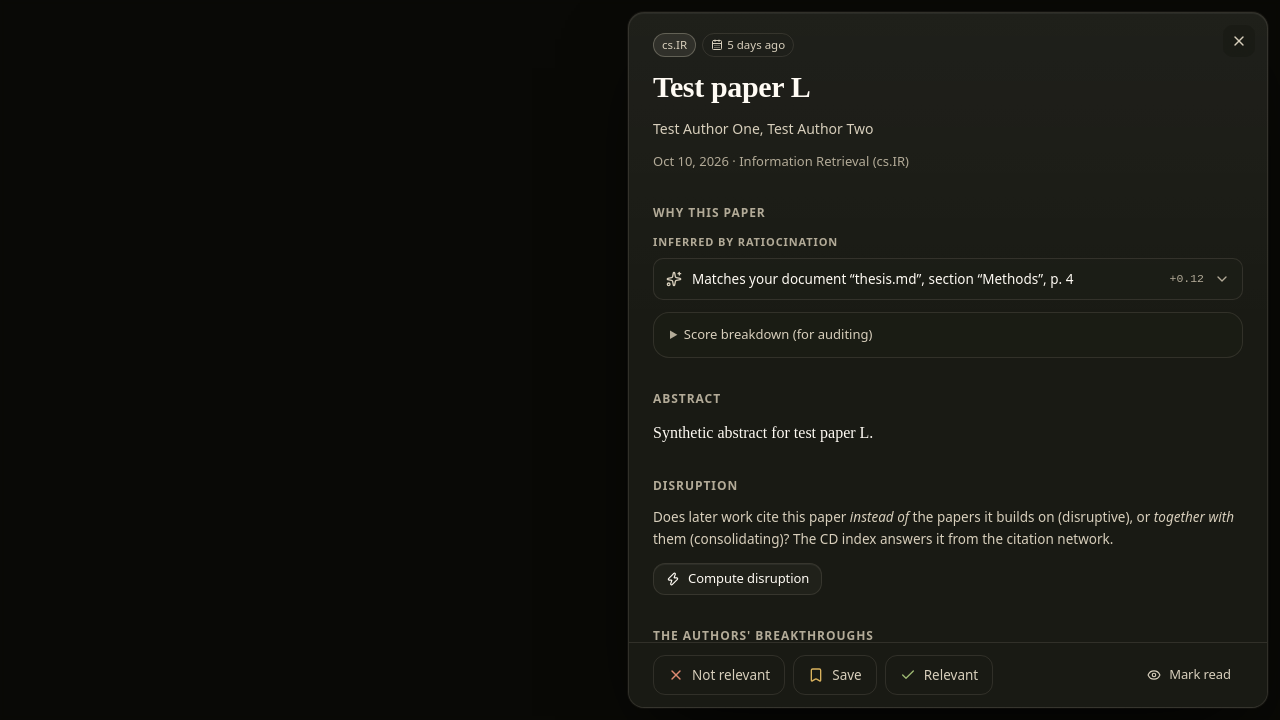
Test: PaperDetailSheet › expands a reason to its private draft evidence
Click the button "Matches your document". click: [948, 279]
box: [654,259,1242,299]
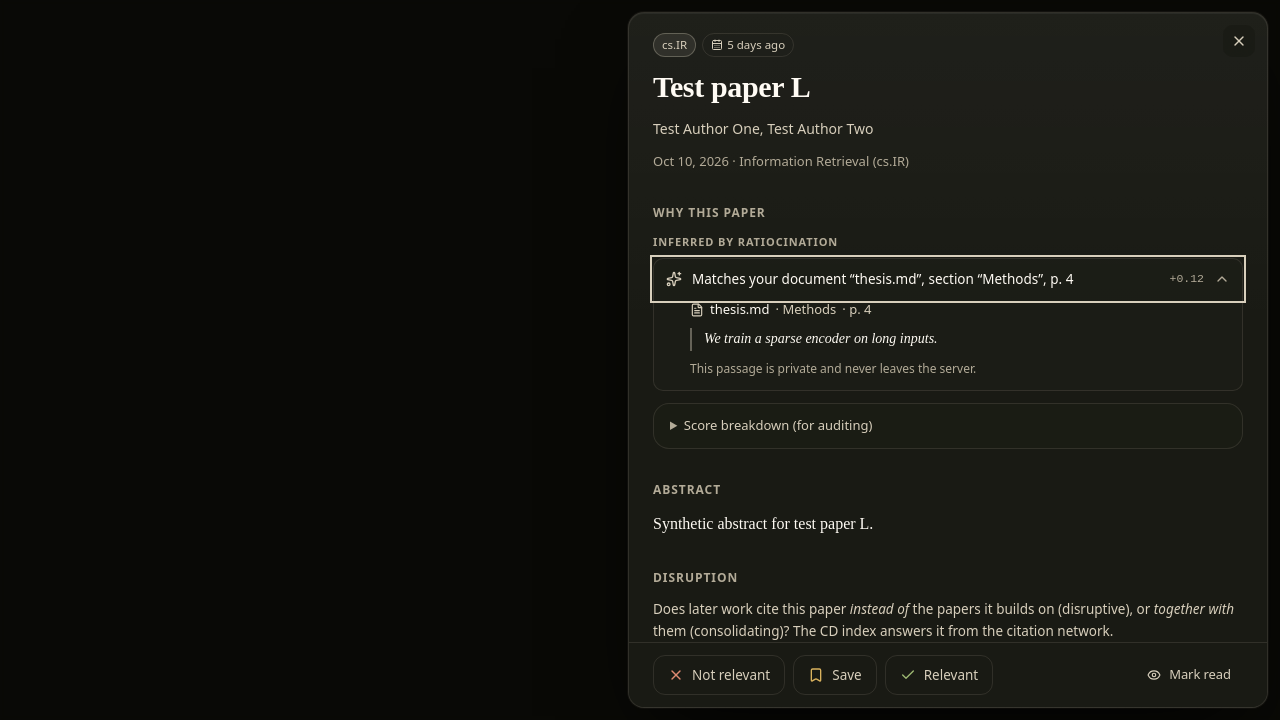
expect the text "We train a sparse encoder on long inputs." is shown: met, box [690,328,1230,351]
expect the text "This passage is private and never leaves the server." is shown: met, box [690,360,976,377]
